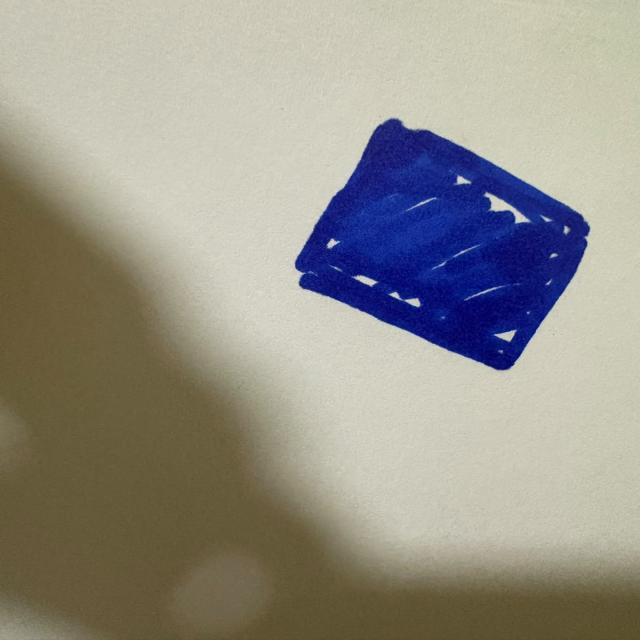Square: (295, 120, 589, 370)
